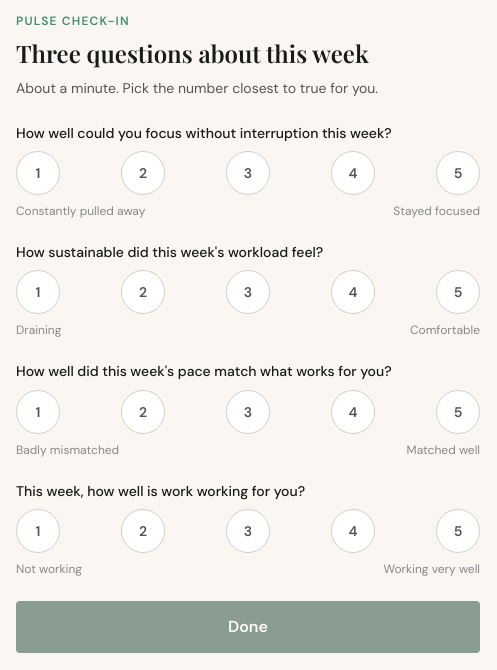
PulseCheckinPage › shows the honest first-point message for a user's first-ever check-in, no comparison
Expected: the text "How well could you focus without interruption this week?" is shown, top-left (16, 124), bottom-right (392, 142)
Click the 1st radio button labelled "3" at (248, 173), box top-left (226, 151), bottom-right (270, 195)
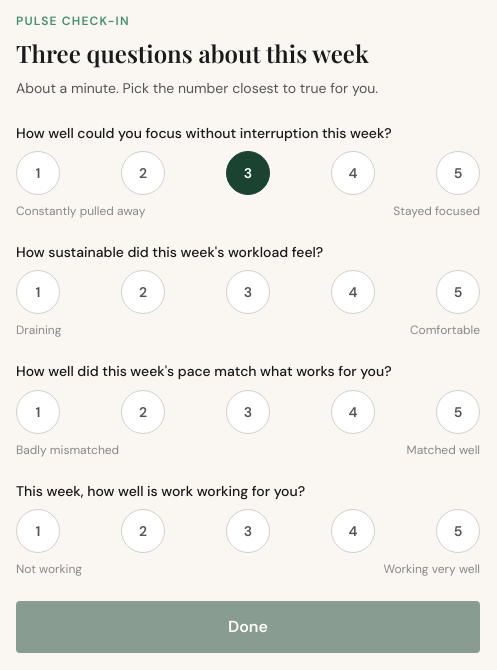
Click the 2nd radio button labelled "3" at (248, 292), box top-left (226, 270), bottom-right (270, 314)
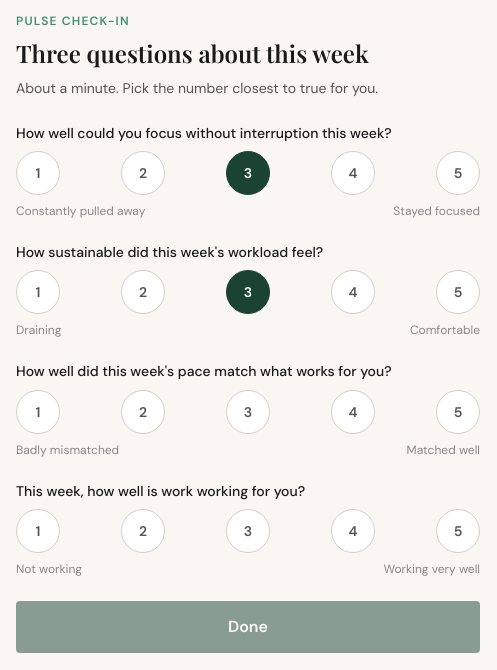
Click the 3rd radio button labelled "3" at (248, 412), box top-left (226, 390), bottom-right (270, 434)
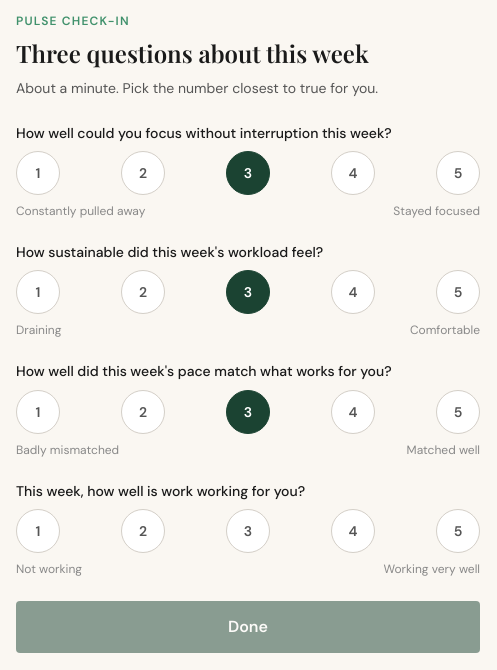
Click the 4th radio button labelled "3" at (248, 531), box top-left (226, 509), bottom-right (270, 553)
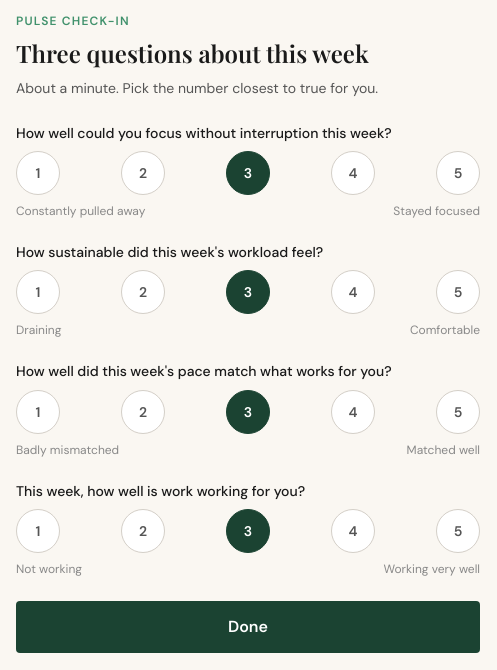
Click the button "Done" at (248, 627), box top-left (16, 601), bottom-right (480, 653)
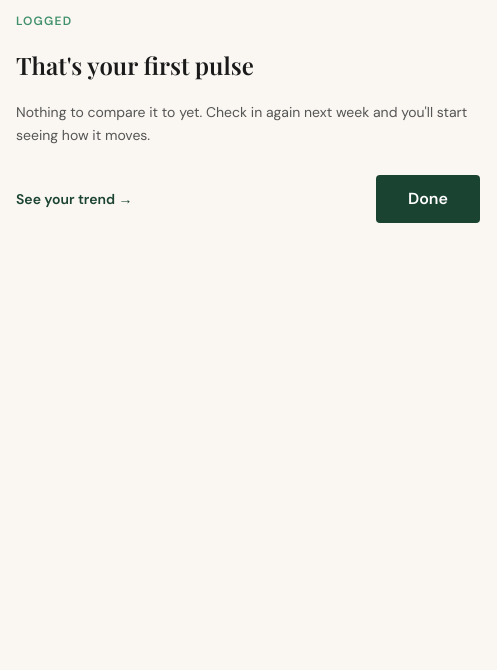
Expected: the heading "That's your first pulse" is shown, top-left (16, 49), bottom-right (254, 81)
Expected: the text "Nothing to compare it to yet" is shown, top-left (16, 103), bottom-right (467, 144)
